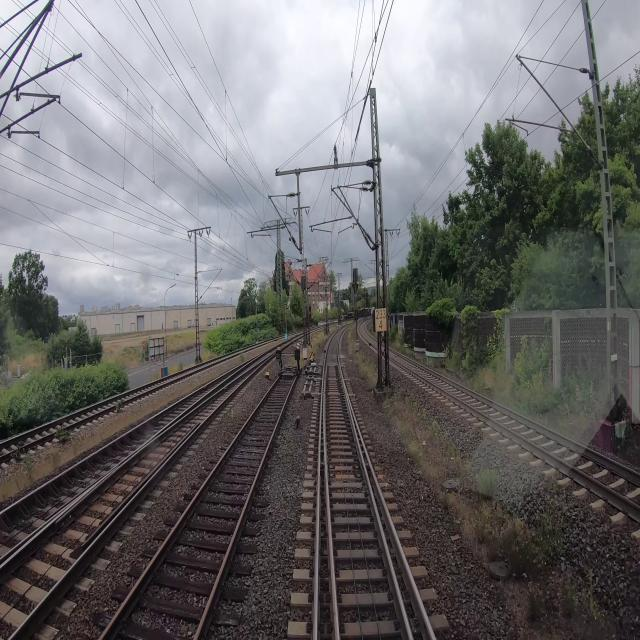Plant: (382, 387, 565, 578), (347, 327, 388, 390), (578, 568, 608, 624), (556, 569, 575, 617), (523, 586, 548, 622)
